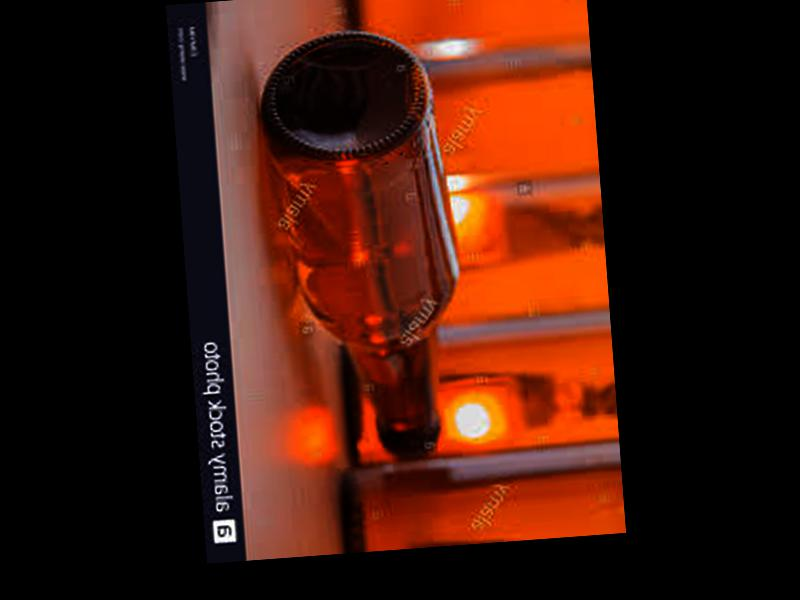Beer: (246, 22, 474, 461)
